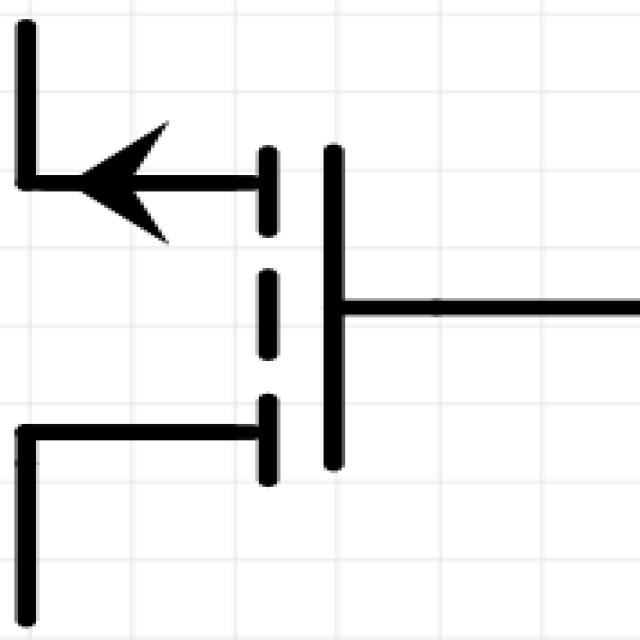nmos: (0, 8, 640, 632)
